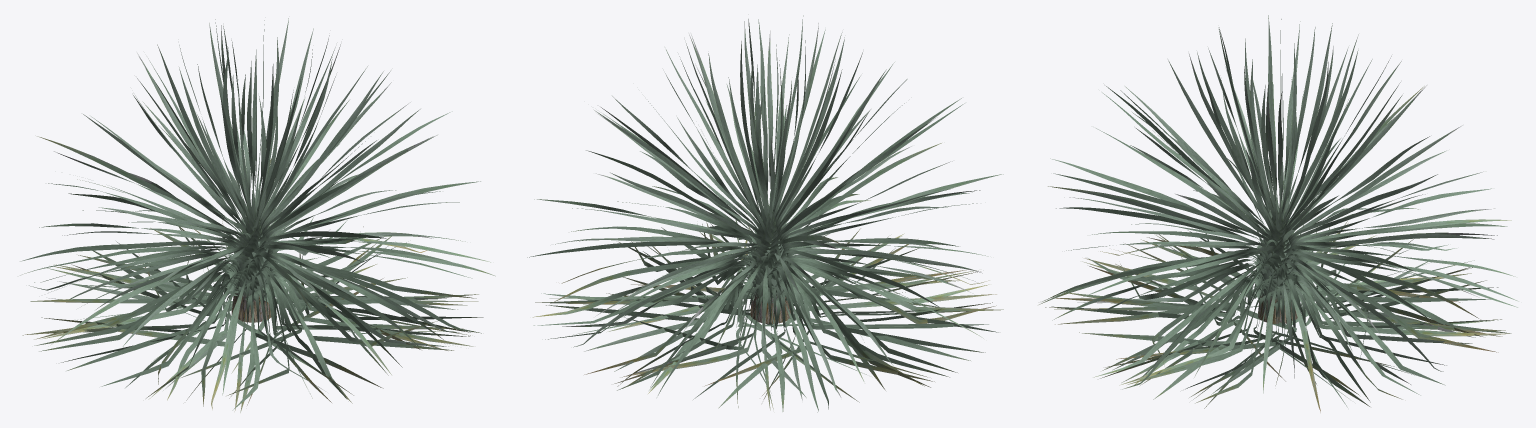
Rendered from yucca.glb.
3 renders of one model, left to right at view 1: azimuth 30°, elevation 25°; view 2: azimuth 150°, elevation 25°; view 3: azimuth 270°, elevation 25°, orthographic.
Size of the model in its own units: 1.5 by 0.9383 by 1.5.
6 materials, 6 textured.
